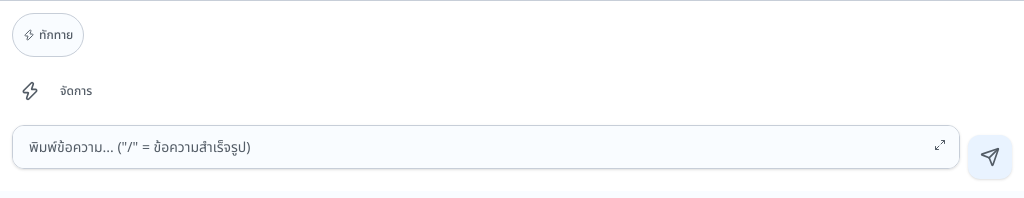
Test: Composer quick replies JSK › พิมพ์ / ค้างไว้หลังปิด picker — ไม่กลืนหาย + listbox ปิดจริง
Type "/ทัก" into the text box labelled "พิมพ์ข้อความ".
click(486, 147); type("/ทัก")  # box [12,125,960,169]
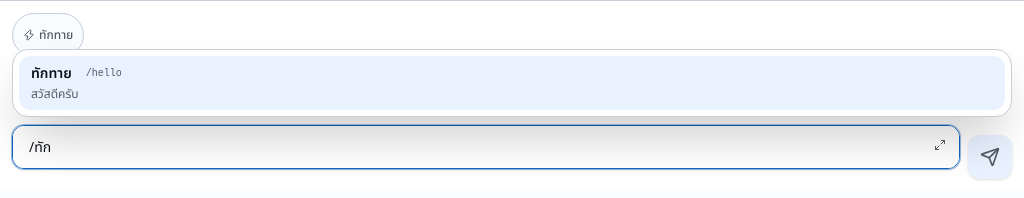
Now the list is shown, box [12,49,1012,117]
Press Escape
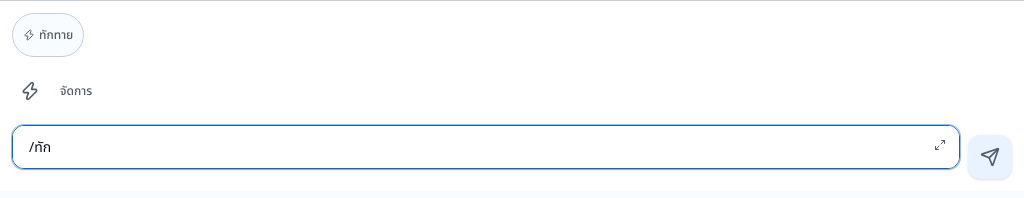
Now the list is gone
Replace the text in the text box named "พิมพ์ข้อความ" with "/อีก" at (486, 147), box [12,125,960,169]
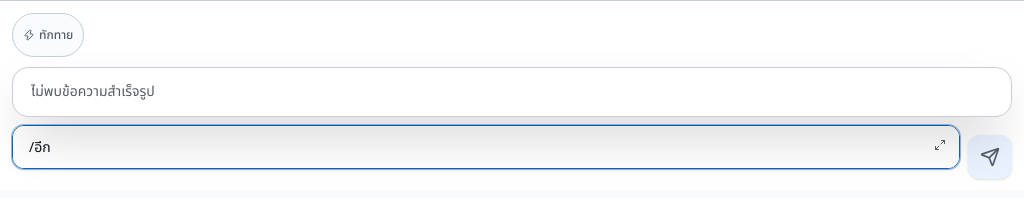
Now the list is shown, box [12,67,1012,117]
